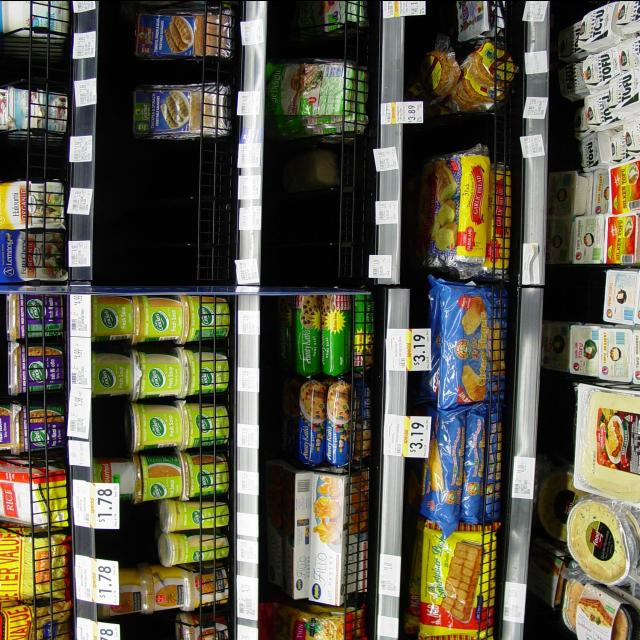empty_space: (113, 145, 211, 279), (291, 148, 361, 268)
